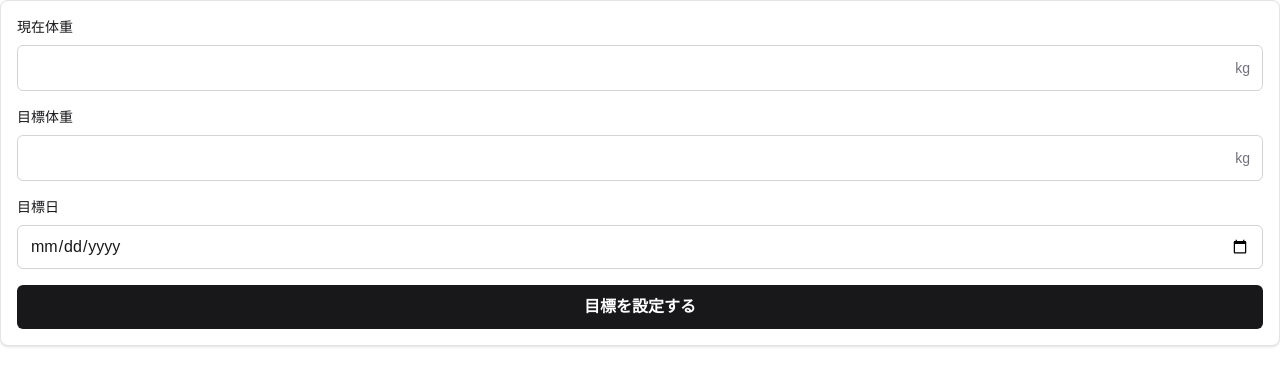
GoalSettingForm › shows a weight decimal places validation error
Type "80.12" into the number field labelled "現在体重" at (627, 68), box [18,46,1235,90]
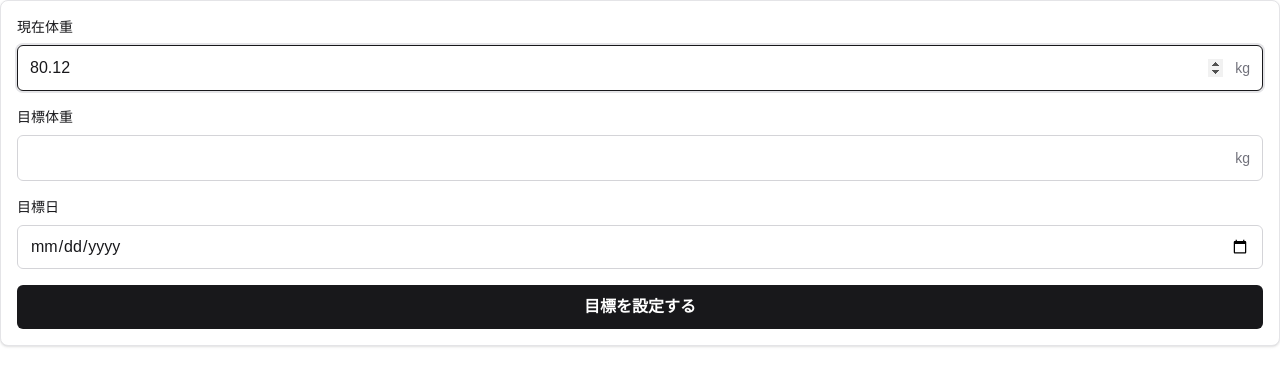
Type "75.0" into the number field labelled "目標体重" at (627, 158), box [18,136,1235,180]
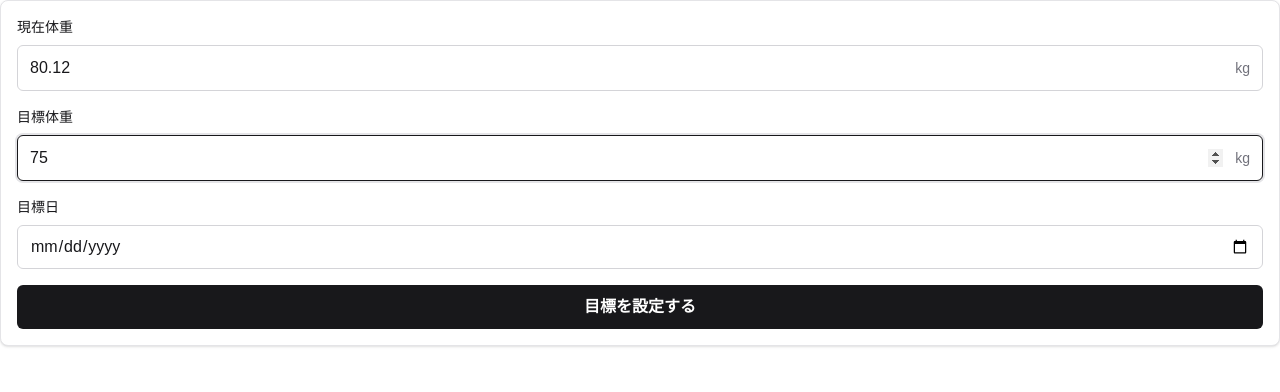
Type "2026-06-30" into the date field labelled "目標日" at (640, 247), box [17,225,1263,269]
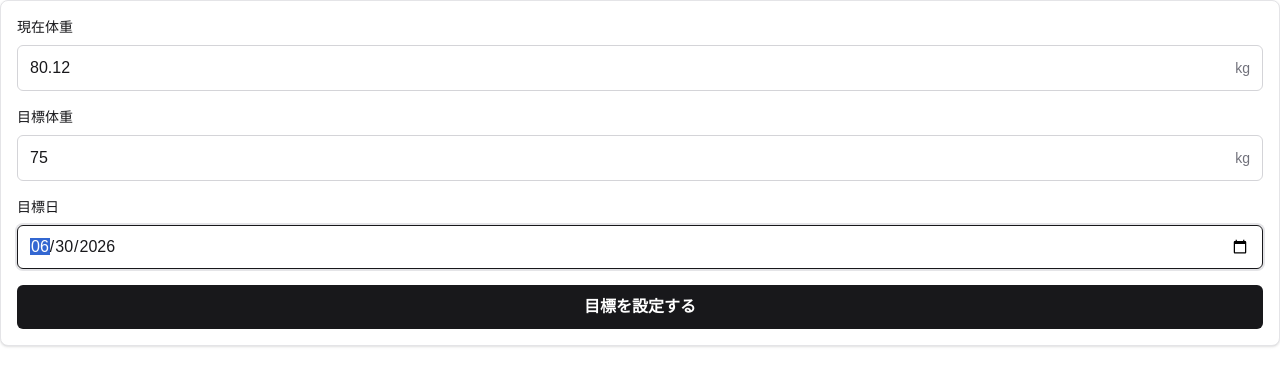
Click the button "目標を設定する" at (640, 307), box [17,285,1263,329]
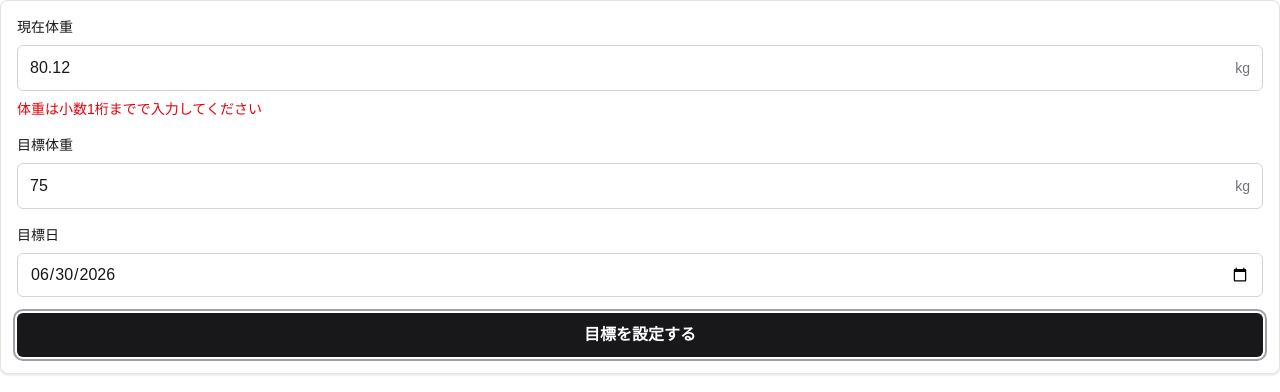
Result: the text "体重は小数1桁までで入力してください" is shown at [17,101,262,117]
